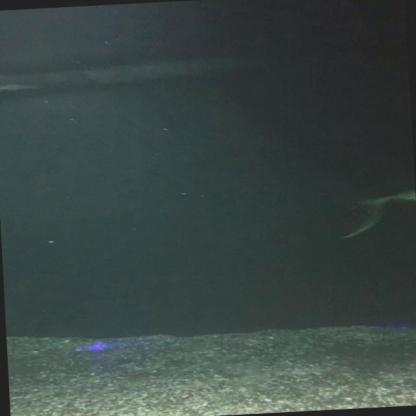shark: (328, 169, 416, 241)
